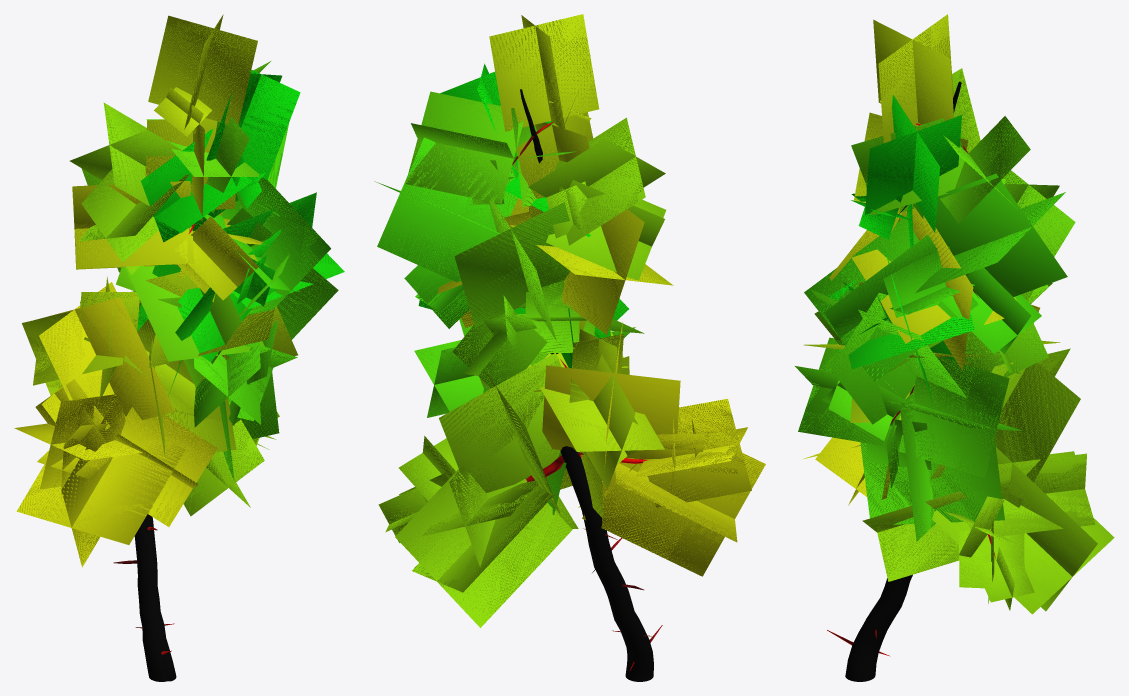
Rendered from Type_5_Tree_5.fbx.
The picture shows the model from 3 angles, left to right: view 1: azimuth 30°, elevation 25°; view 2: azimuth 150°, elevation 25°; view 3: azimuth 270°, elevation 25°; orthographic projection. The views are drawn at different scales.
Visible parts, largest first — view 1: Leaf, Trunk; view 2: Leaf, Trunk; view 3: Leaf, Trunk.
Part boxes in pixels (x1,y1,x2,y2): Leaf: (14,14,344,567); Trunk: (113,224,194,681); Leaf: (374,14,765,627); Trunk: (512,89,662,681); Leaf: (795,14,1114,614); Trunk: (827,81,995,681).
Bounding box in the file's own units: 2681 × 5155 × 2182.
